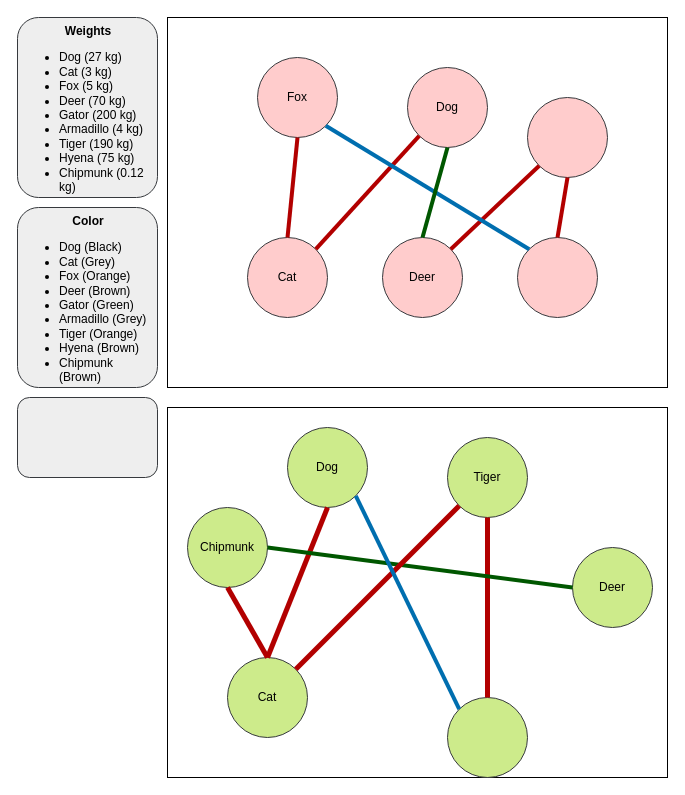
This 685x795 diagram has some shape labels left out. The centre of each missing label's shape, as x and y in pixels:
Armadillo: [557,277]
Gator: [567,137]
Hyena: [487,737]
Relationship Blue - Neutral Green - Friendly Red - Negative: [87,437]
